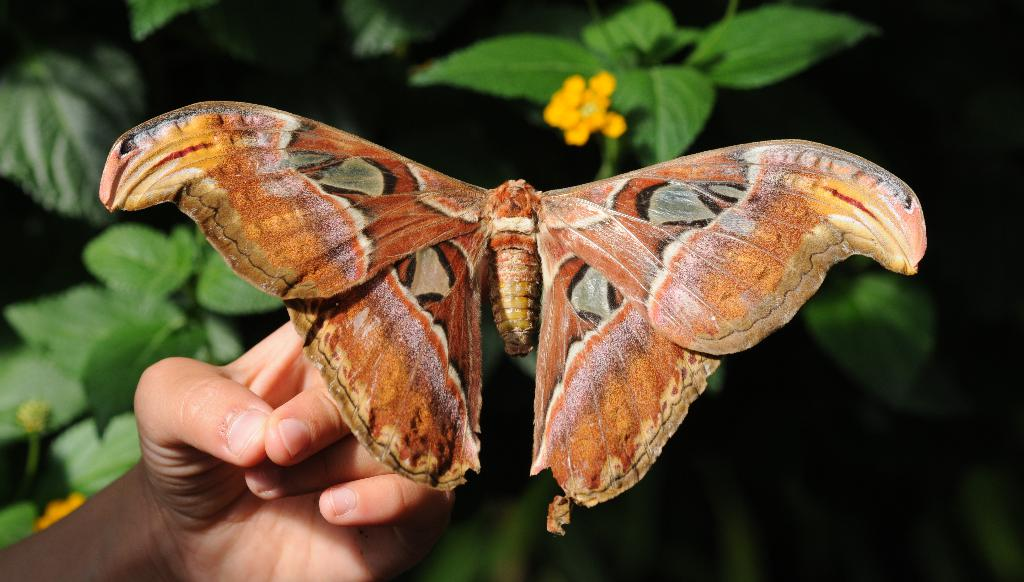Butterfly: (91, 75, 945, 536)
